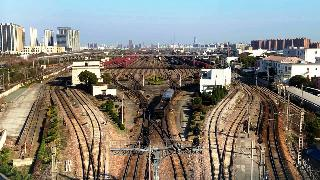train: (154, 88, 174, 118)
